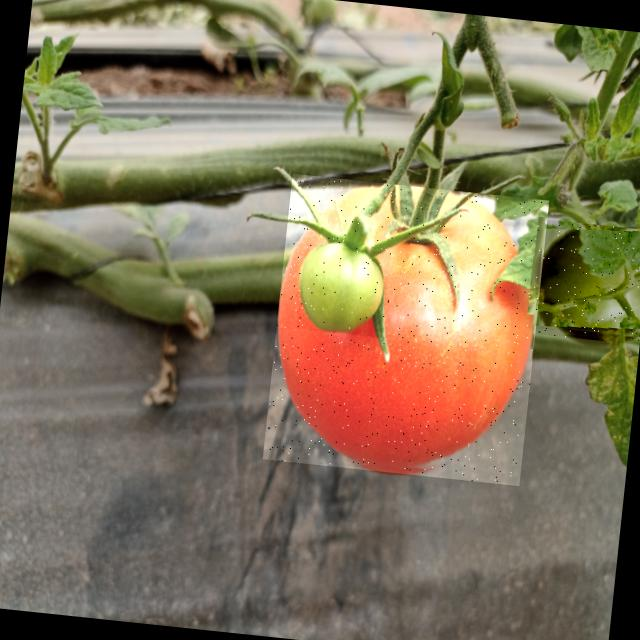Ripe Tomato: (262, 174, 549, 486)
Unripe Tomato: (533, 218, 640, 344), (296, 243, 390, 338)
